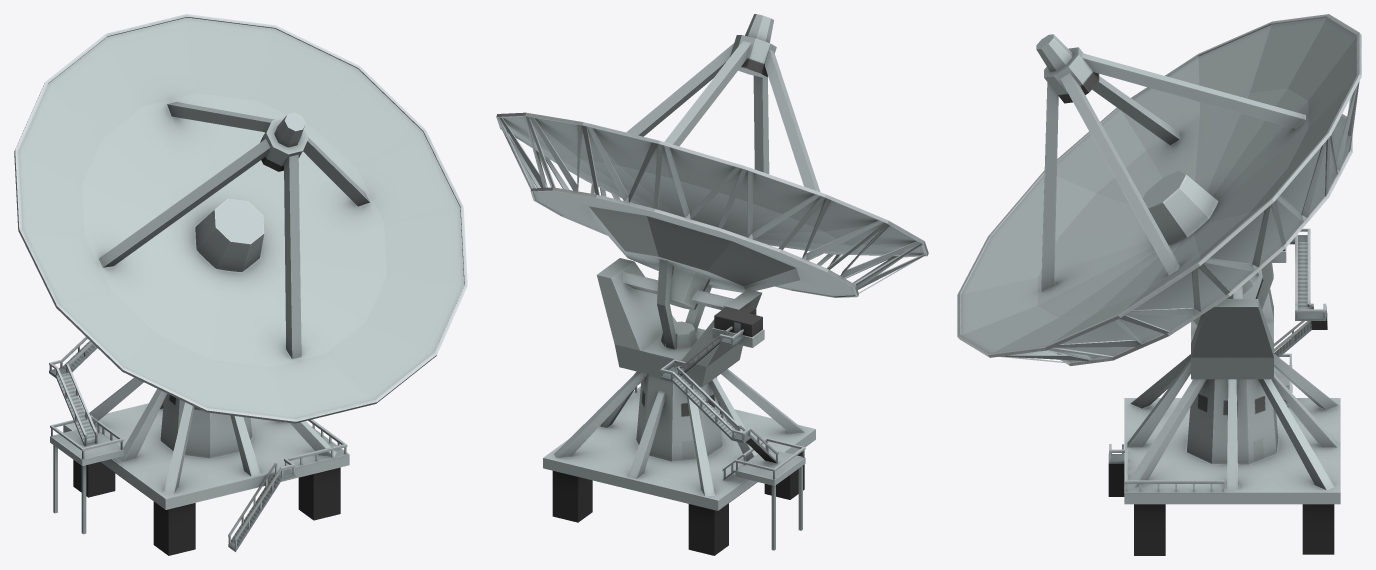
The model's file is SatelliteDish.obj.
The picture shows the model from 3 angles, left to right: view 1: azimuth 30°, elevation 25°; view 2: azimuth 150°, elevation 25°; view 3: azimuth 270°, elevation 25°; orthographic projection. The views are drawn at different scales.
Visible parts, largest first — view 1: SatelliteDish_Mesh; view 2: SatelliteDish_Mesh; view 3: SatelliteDish_Mesh.
Boxes of the visible parts, left/top/right/bottom form: SatelliteDish_Mesh: left=14, top=14, right=467, bottom=555; SatelliteDish_Mesh: left=496, top=14, right=928, bottom=555; SatelliteDish_Mesh: left=957, top=14, right=1361, bottom=555.
Bounding box in the file's own units: 16.37 × 17.35 × 13.36.
1 material, 1 textured.
